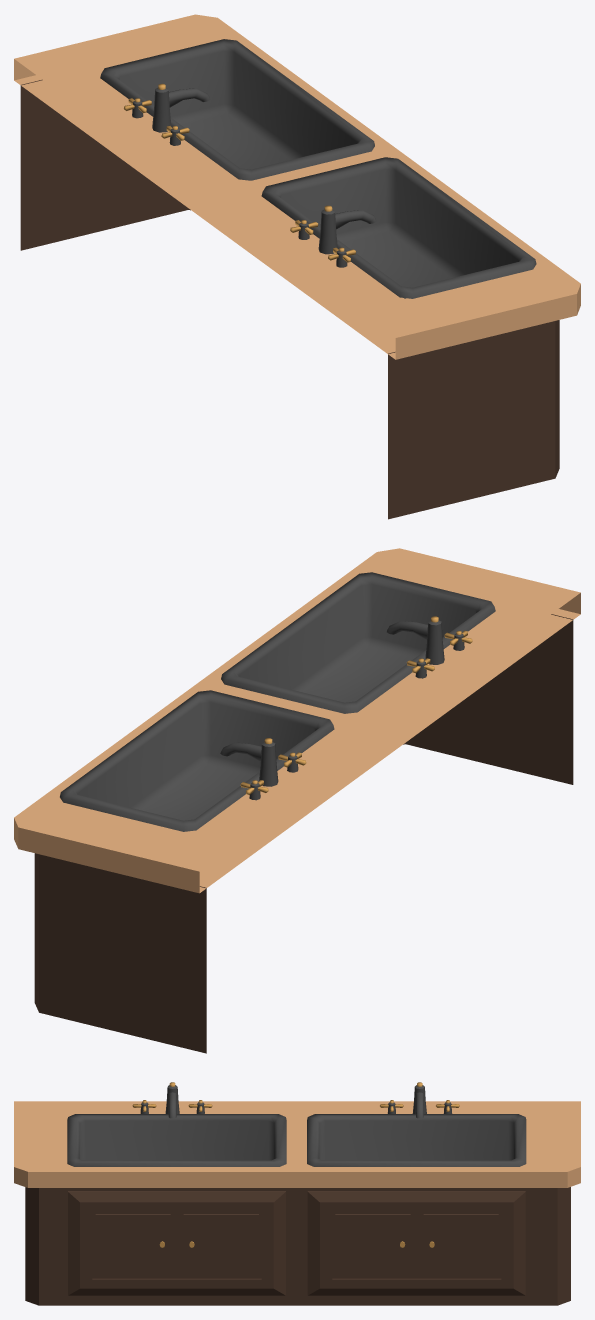
The model's file is S_BathroomSinks.fbx.
3 renders of one model, top to bottom at view 1: azimuth 30°, elevation 25°; view 2: azimuth 150°, elevation 25°; view 3: azimuth 270°, elevation 25°, orthographic. The views are drawn at different scales.
Parts seen in each view (by area): view 1: S_BathroomSinks; view 2: S_BathroomSinks; view 3: S_BathroomSinks.
Boxes of the visible parts, bbox=[...] form: S_BathroomSinks: bbox=[14, 14, 580, 519]; S_BathroomSinks: bbox=[14, 548, 580, 1053]; S_BathroomSinks: bbox=[14, 1082, 580, 1305].
Size of the model in its own units: 100 by 113 by 339.
